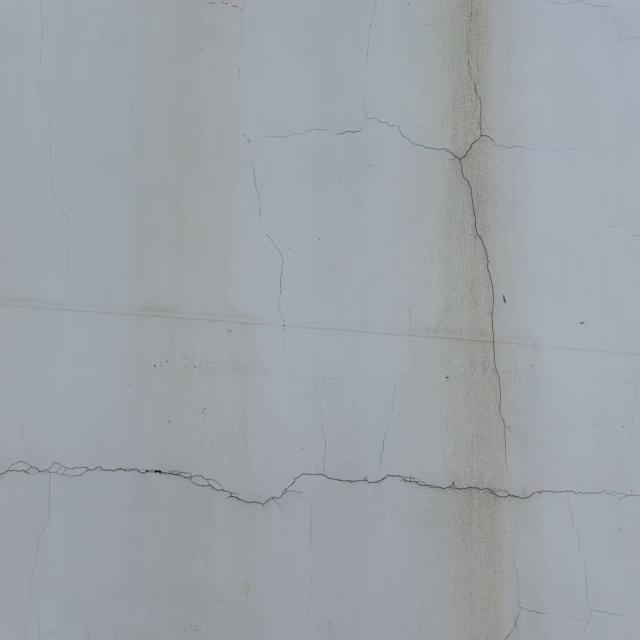crack: (240, 7, 623, 467), (3, 451, 633, 517), (564, 502, 630, 633), (502, 529, 553, 637)
